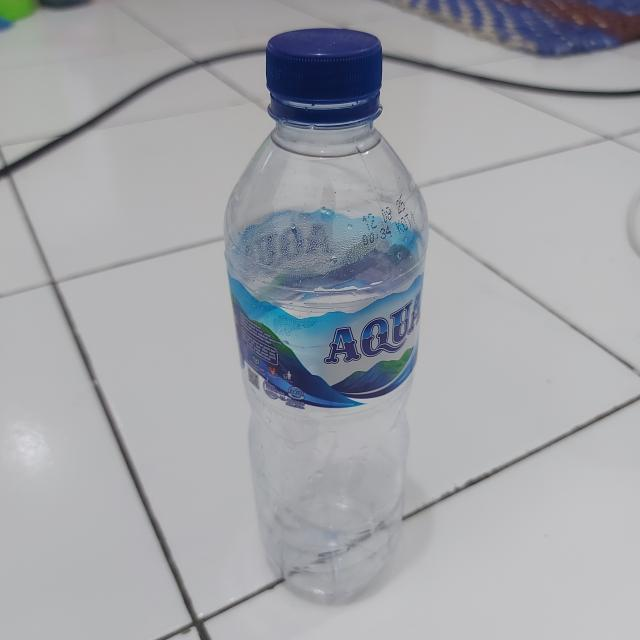Anorganik: (221, 21, 428, 595)
